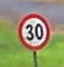limite 30: (15, 10, 51, 50)
